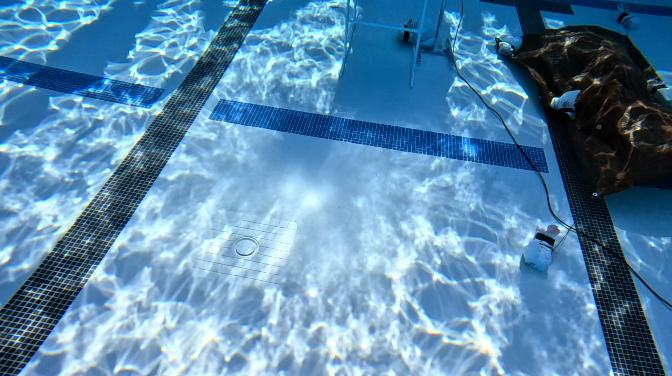sandbag: (491, 24, 671, 194), (524, 224, 559, 266), (617, 11, 636, 28)
